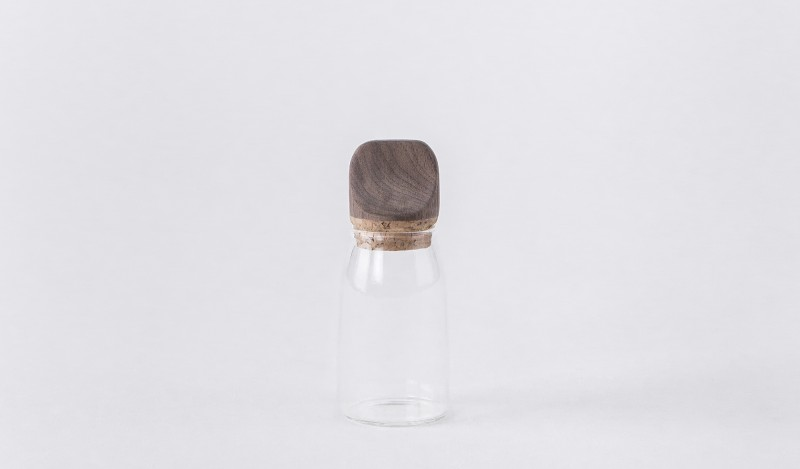glass_bottle: (338, 136, 454, 435)
